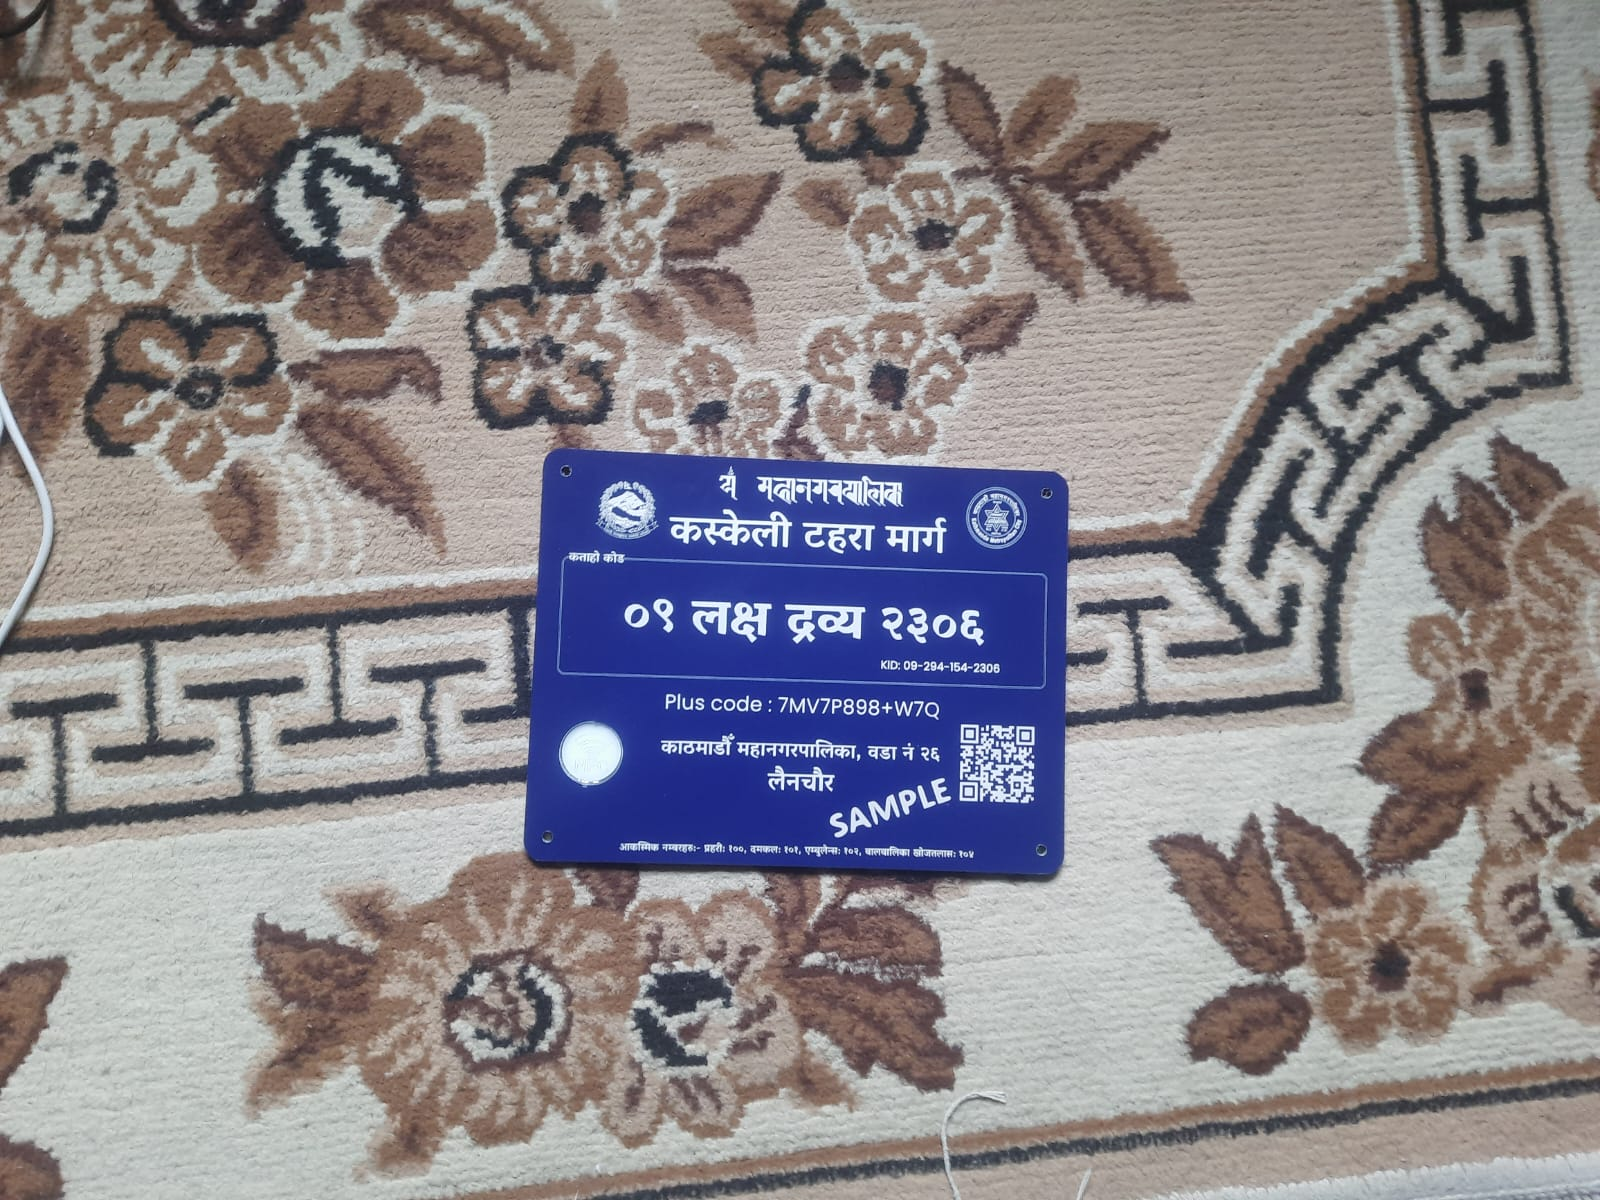Plate: (521, 441, 1073, 881)
